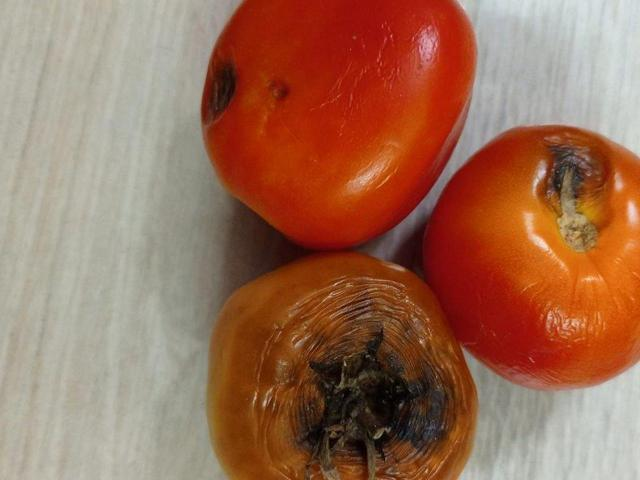defect: (205, 249, 488, 480), (419, 119, 640, 394)
